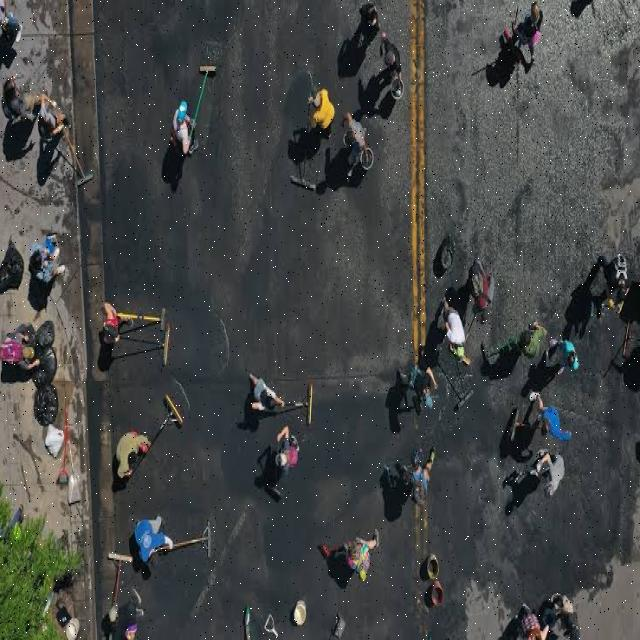humans: (502, 1, 548, 67), (334, 522, 380, 586), (402, 432, 438, 509), (528, 388, 574, 446), (134, 510, 177, 568), (305, 66, 336, 146), (403, 350, 439, 416), (114, 421, 152, 481), (244, 366, 286, 416), (169, 91, 200, 158), (272, 423, 306, 483), (439, 292, 468, 359), (530, 450, 568, 498), (602, 251, 629, 315), (106, 586, 144, 630), (101, 299, 135, 345), (547, 334, 581, 378), (380, 25, 402, 84), (342, 109, 369, 156), (550, 588, 579, 628), (521, 320, 549, 354), (361, 0, 378, 44)
